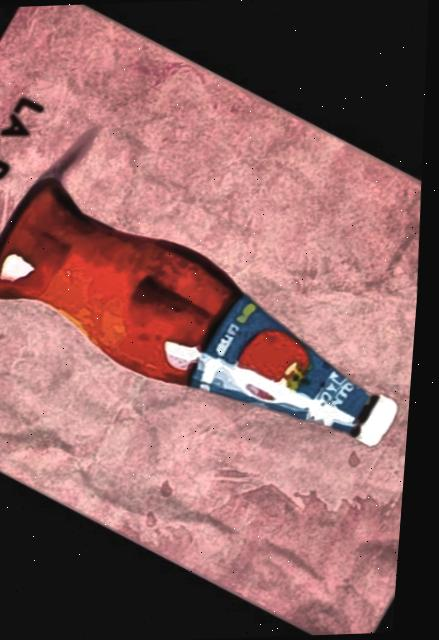La Botella: (0, 7, 424, 635)
